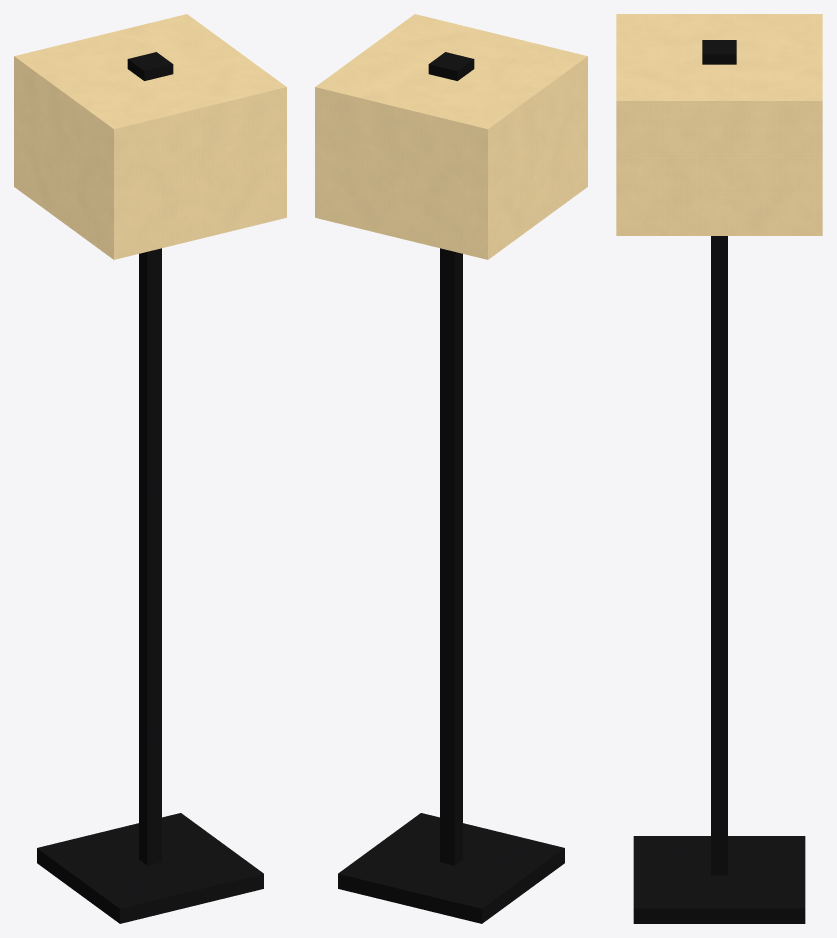
3 views of the same model, side by side, from view 1: azimuth 30°, elevation 25°; view 2: azimuth 150°, elevation 25°; view 3: azimuth 270°, elevation 25° (orthographic). The views are drawn at different scales.
Visible parts, largest first — view 1: FloorLamp_Game; view 2: FloorLamp_Game; view 3: FloorLamp_Game.
Boxes of the visible parts, x1,y1,x2,y2 form: FloorLamp_Game: (14,14,286,923); FloorLamp_Game: (315,14,587,923); FloorLamp_Game: (616,14,822,923).
Size of the model in its own units: 0.36 by 1.62 by 0.36.
Materials: 2 (2 with a texture image).
